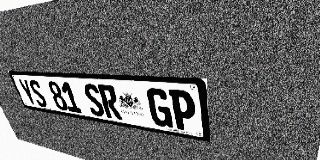1: (58, 82, 82, 113)
8: (46, 81, 69, 111)
G: (145, 88, 173, 128)
P: (168, 89, 197, 132)
R: (97, 84, 123, 120)
S: (81, 83, 106, 117), (27, 79, 49, 108)
Y: (17, 79, 38, 106)
